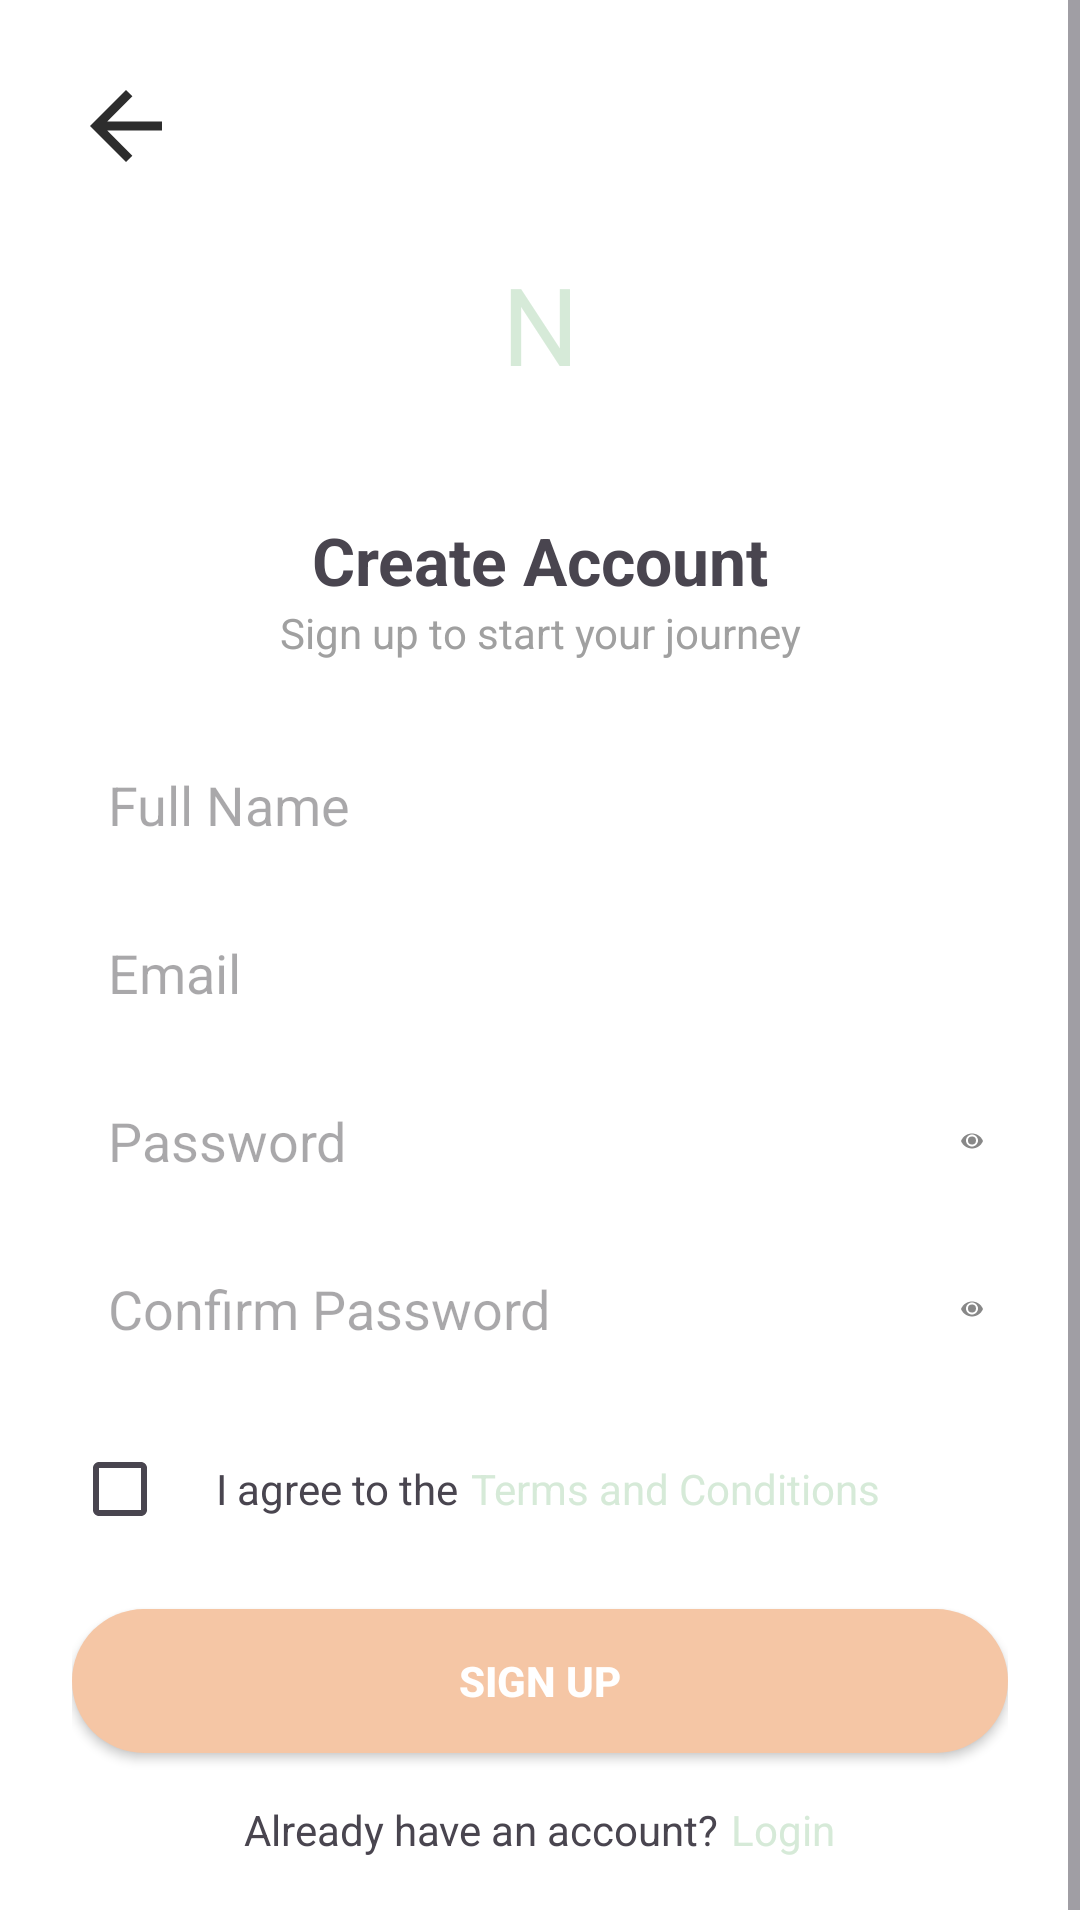

Screen size 1080×1920. Icon name, then its box in pixels as (x1, y1, x2, y2):
Back: (90, 90, 162, 162)
